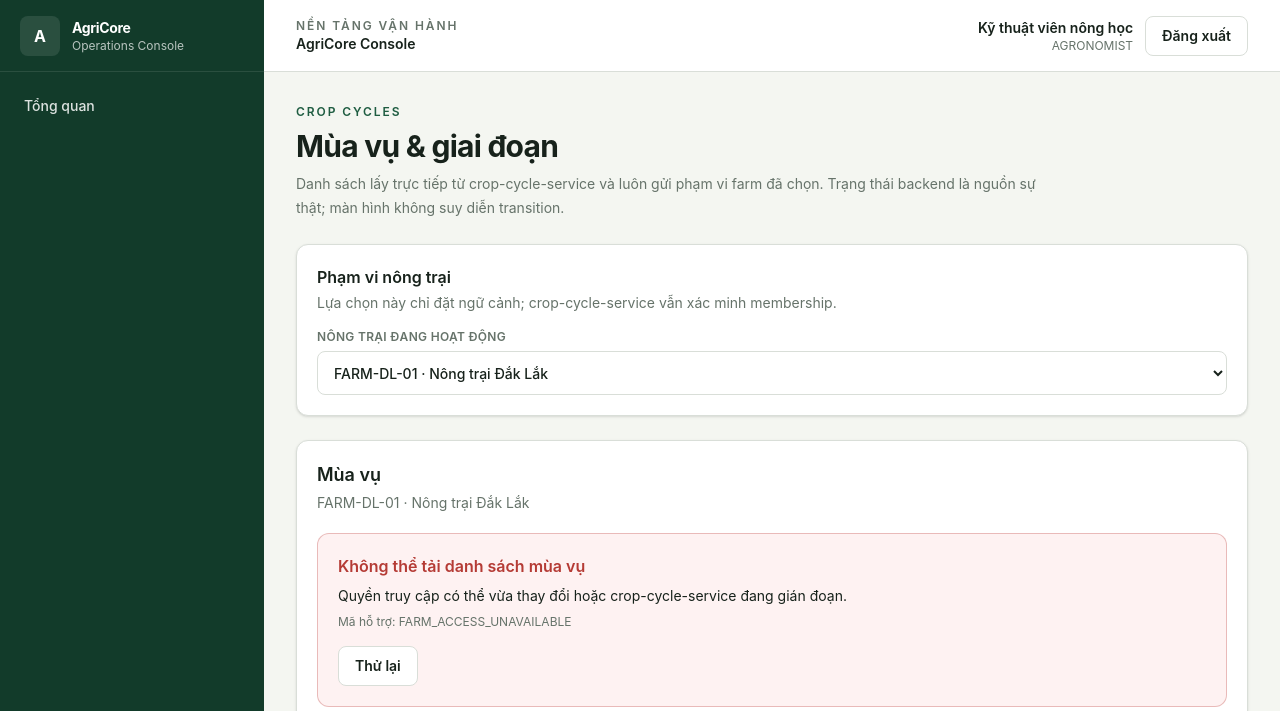
Test case: Crop cycles page › keeps the selected farm and retries a temporary crop-cycle failure
The width and height of the screenshot is (1280, 711).
Expected: the message shows "Không thể tải danh sách mùa vụ", [338,556,585,576]
Expected: the dropdown labelled "Nông trại đang hoạt động" shows "FARM-DL-01 · Nông trại Đắk Lắk", [317,351,1227,395]
Click the button "Thử lại" at [378, 666], box [338,646,418,686]
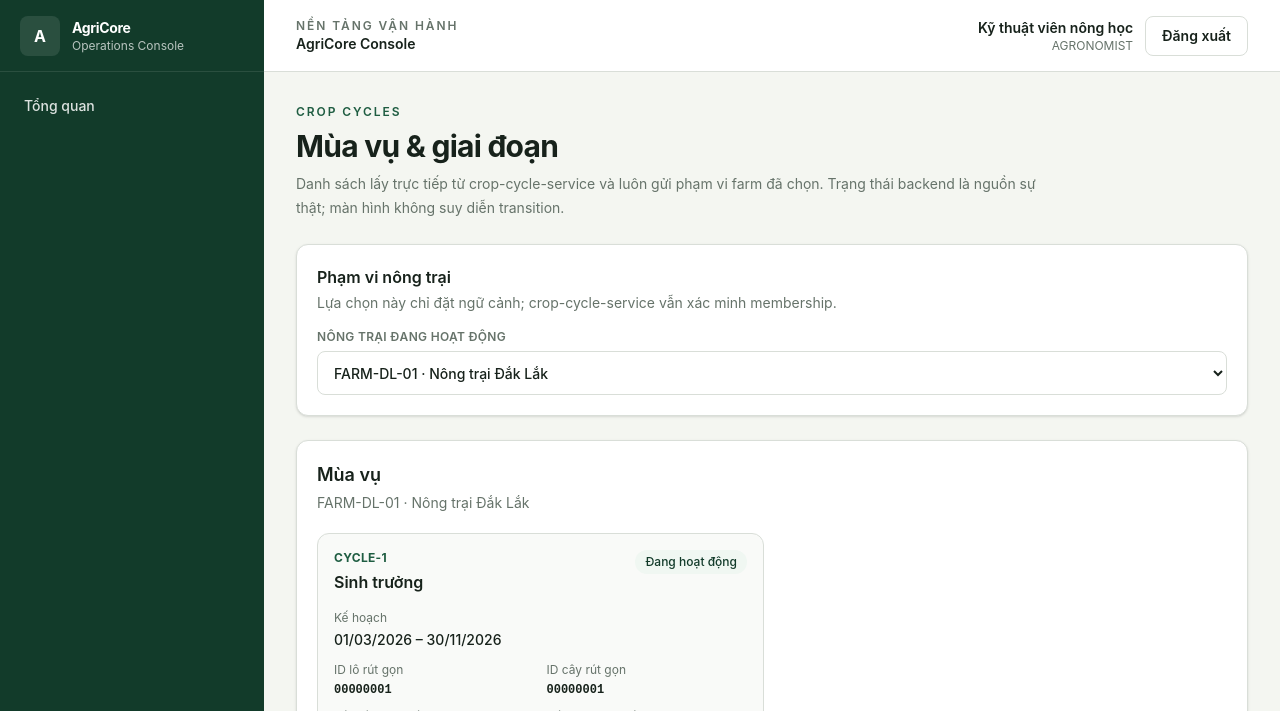
Expected: the text "CYCLE-1" is shown, [334,550,387,565]
